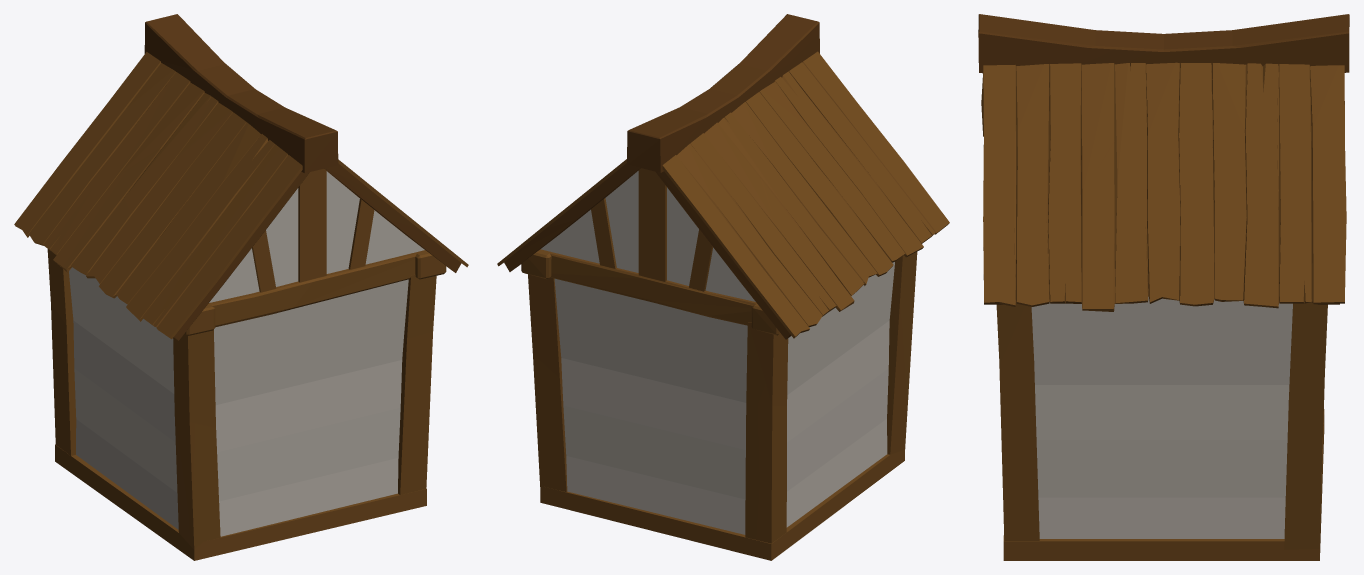
Rendered from SmallHouse_08.fbx.
3 renders of one model, left to right at view 1: azimuth 30°, elevation 25°; view 2: azimuth 150°, elevation 25°; view 3: azimuth 270°, elevation 25°, orthographic. The views are drawn at different scales.
Parts seen in each view (by area): view 1: SmallHouse_08; view 2: SmallHouse_08; view 3: SmallHouse_08.
Boxes of the visible parts, x1,y1,x2,y2 form: SmallHouse_08: (14,14,468,560); SmallHouse_08: (497,14,949,560); SmallHouse_08: (978,14,1349,560).
Size of the model in its own units: 323 by 410 by 292.
